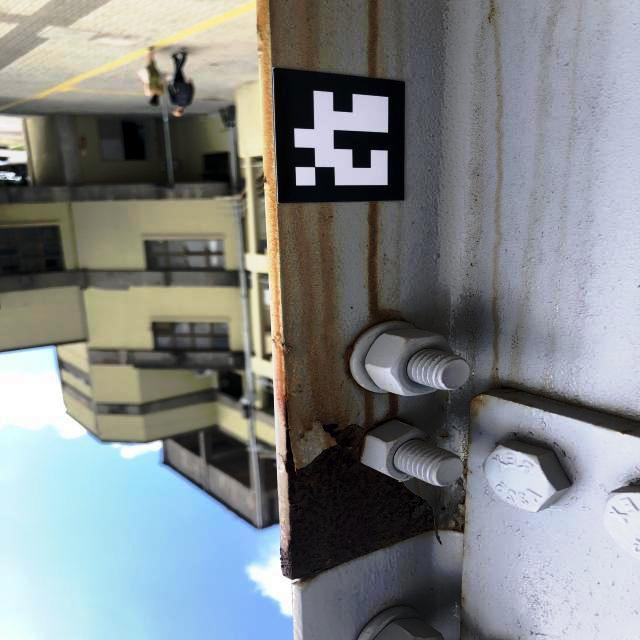Corrosion: (278, 422, 434, 580)
